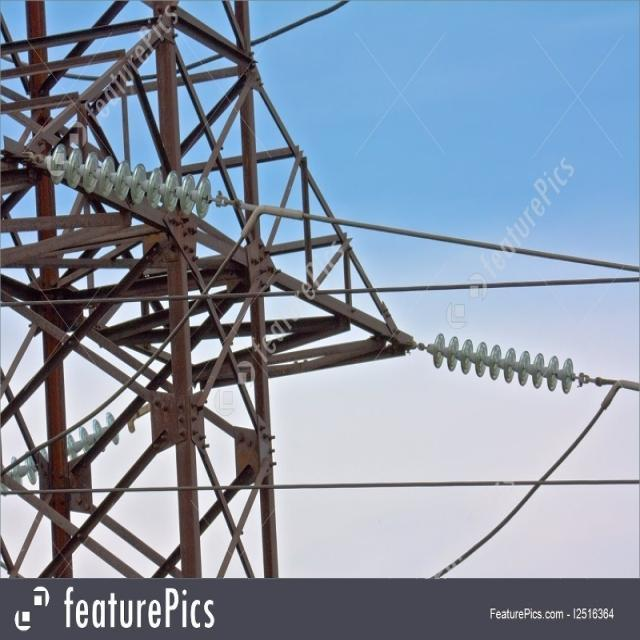non-critical vegetation: (9, 19, 361, 582)
